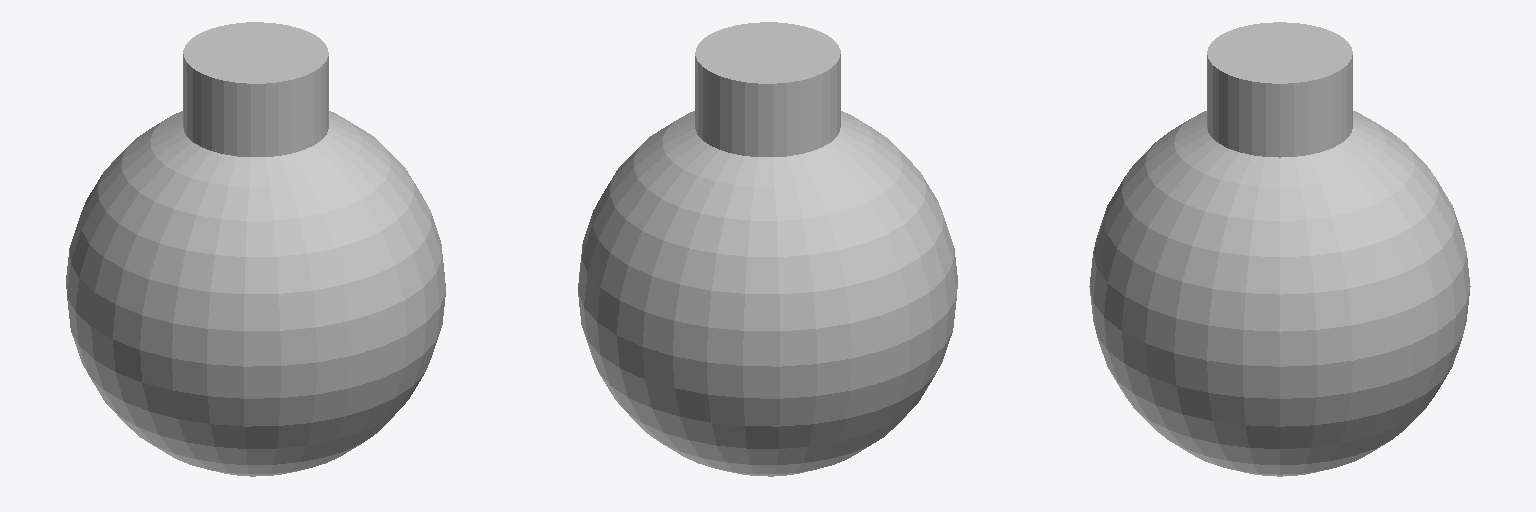
File: bomb.obj
3 views of the same model, side by side, from view 1: azimuth 30°, elevation 25°; view 2: azimuth 150°, elevation 25°; view 3: azimuth 270°, elevation 25° (orthographic).
Visible parts, largest first — view 1: Sphere; view 2: Sphere; view 3: Sphere.
Boxes of the visible parts, x1=… form: Sphere: x1=66, y1=22, x2=445, y2=476; Sphere: x1=578, y1=22, x2=957, y2=476; Sphere: x1=1089, y1=22, x2=1470, y2=476.
Size of the model in its own units: 0.6511 by 0.7652 by 0.6511.